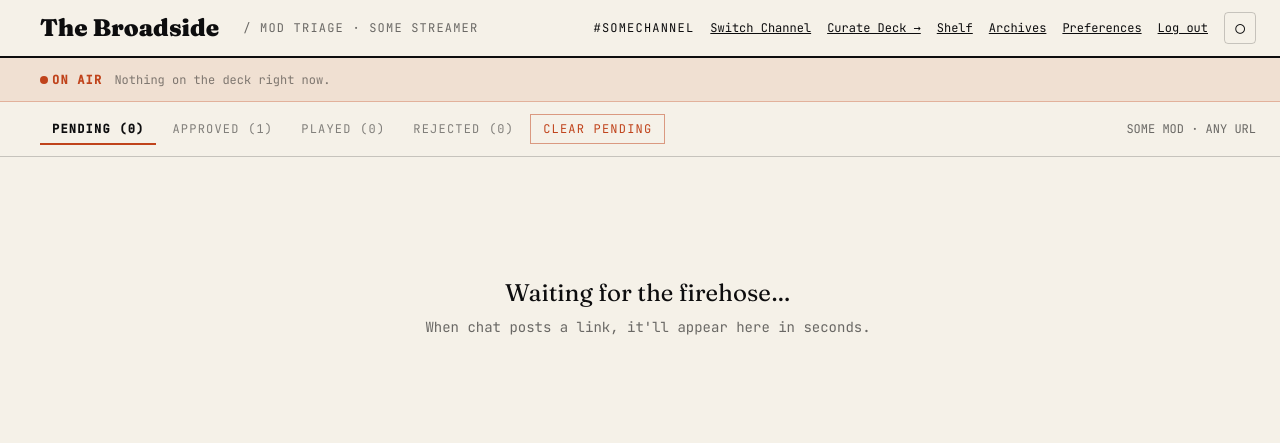
Test case: ModView — approve into a segment › shows which mod approved an already-approved item, on the Approved tab
Click the radio button "approved (1)" at (223, 130), box [160,115,285,145]
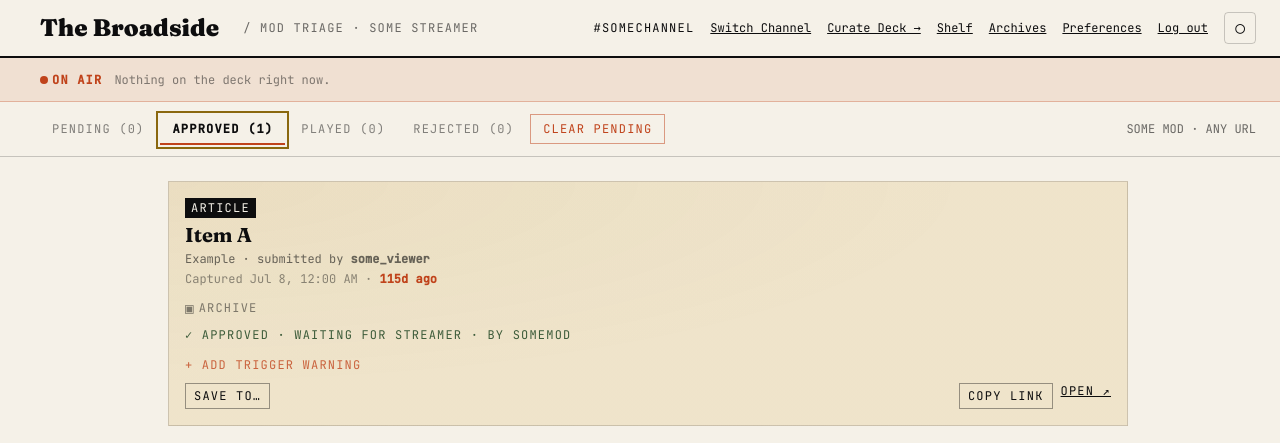
Now the text "✓ approved · waiting for streamer · by SomeMod" is shown, box [185,327,571,343]
